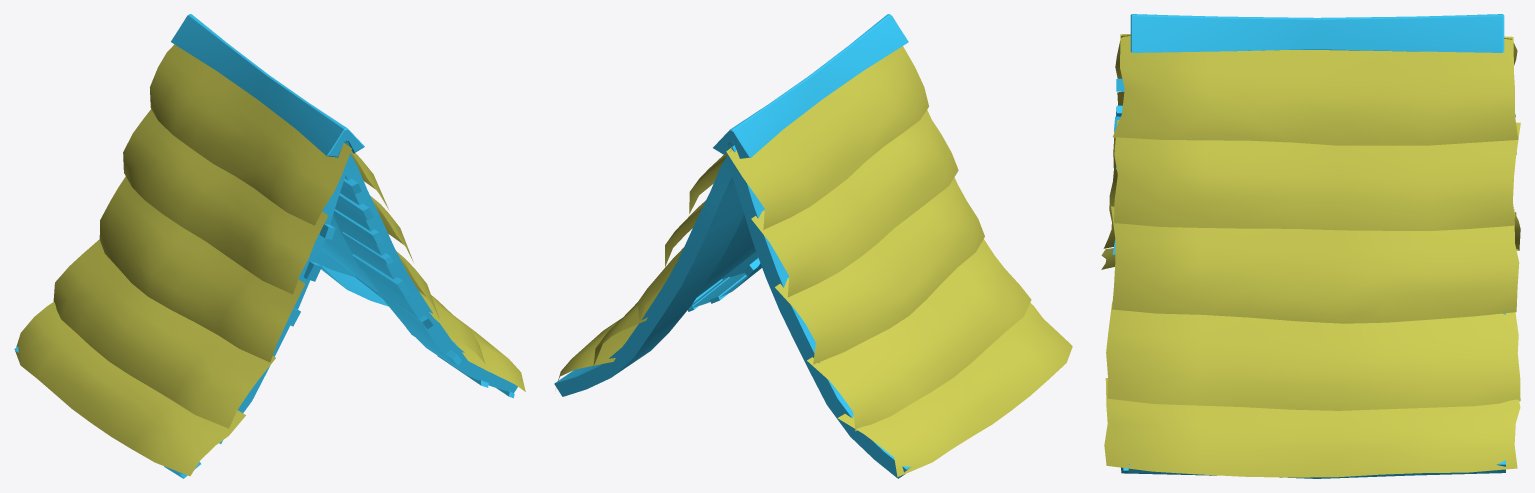
Rendered from Roof_02_Hay.fbx.
3 renders of one model, left to right at view 1: azimuth 30°, elevation 25°; view 2: azimuth 150°, elevation 25°; view 3: azimuth 270°, elevation 25°, orthographic. The views are drawn at different scales.
Visible parts, largest first — view 1: Roof_02_Hay; view 2: Roof_02_Hay; view 3: Roof_02_Hay.
Part boxes in pixels (x1,y1,x2,y2): Roof_02_Hay: (14,14,525,478); Roof_02_Hay: (554,14,1072,478); Roof_02_Hay: (1101,14,1520,478).
Size of the model in its own units: 1049 by 837 by 853.
